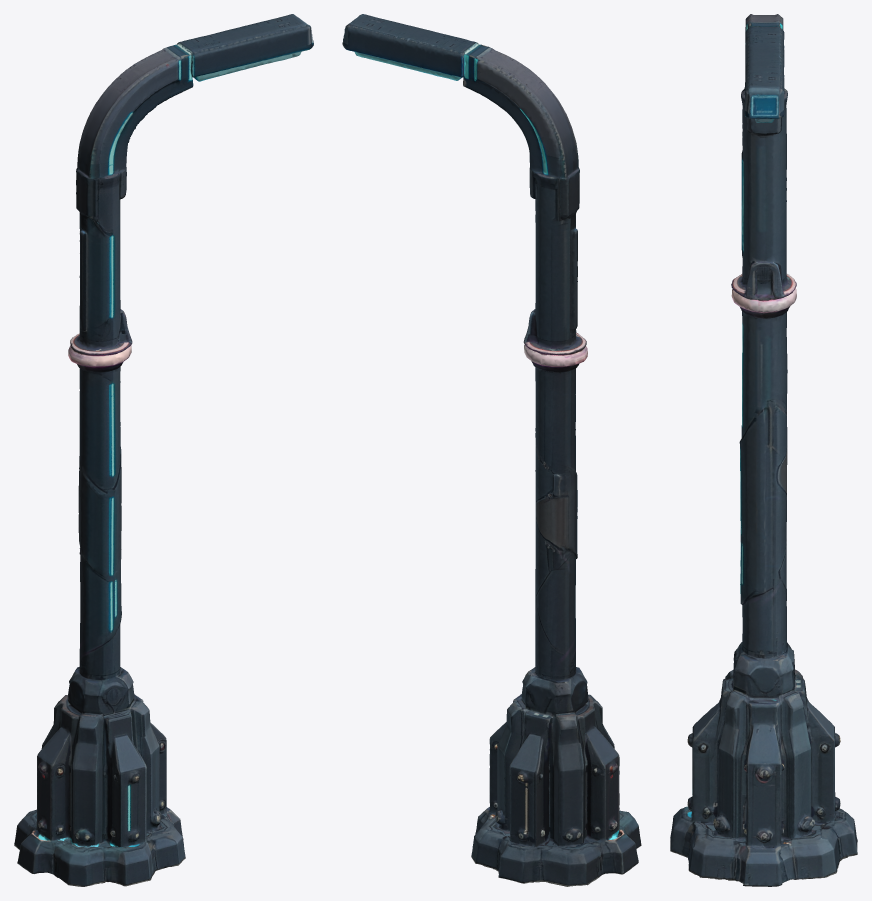
The model's file is Lamp_Before.fbx.
The picture shows the model from 3 angles, left to right: view 1: azimuth 30°, elevation 25°; view 2: azimuth 150°, elevation 25°; view 3: azimuth 270°, elevation 25°; orthographic projection. The views are drawn at different scales.
Visible parts, largest first — view 1: texture_mapping; view 2: texture_mapping; view 3: texture_mapping.
Boxes of the visible parts, box(x1,y1,x2,y2) form: texture_mapping: box(14, 14, 313, 886); texture_mapping: box(342, 14, 641, 886); texture_mapping: box(670, 14, 857, 886).
Bounding box in the file's own units: 0.3782 × 1 × 0.1966.
Materials: 1 (1 with a texture image).
